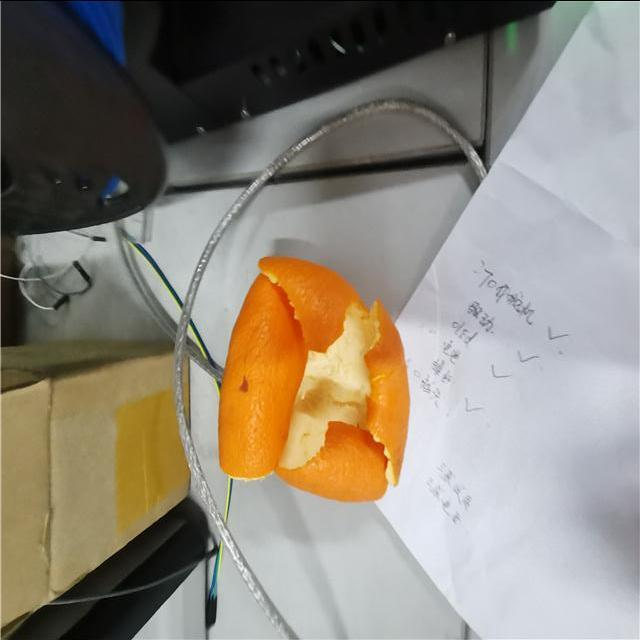orange peel: (217, 252, 410, 504)
